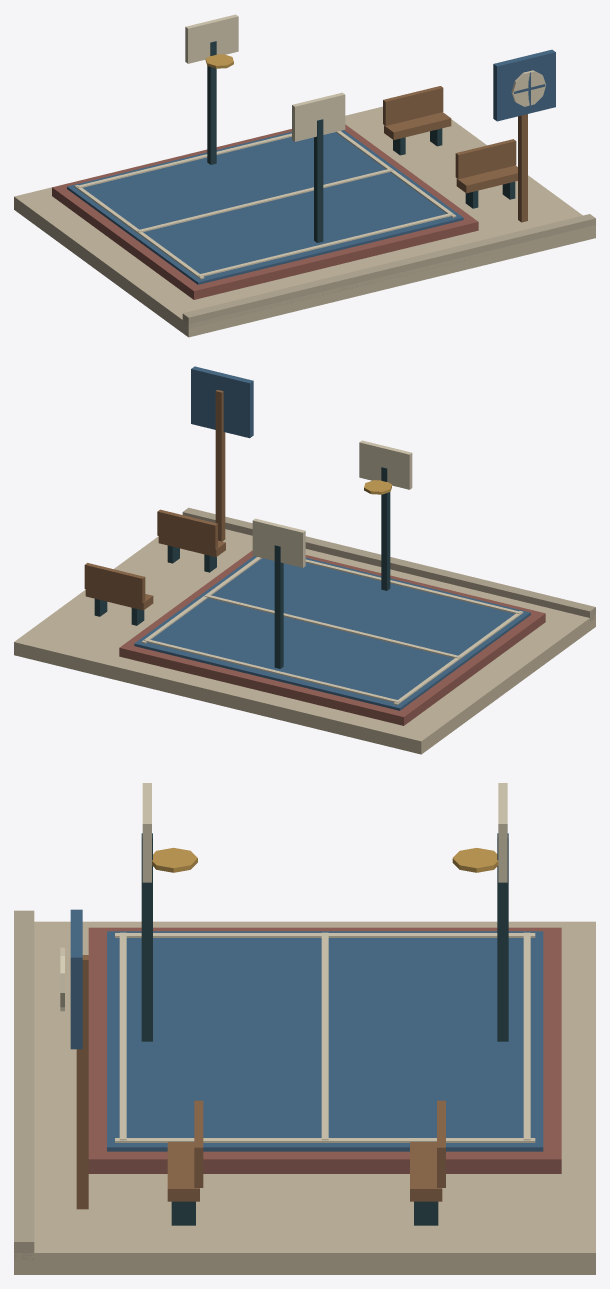
File: sports-park-seabreeze-complete.glb
3 renders of one model, top to bottom at view 1: azimuth 30°, elevation 25°; view 2: azimuth 150°, elevation 25°; view 3: azimuth 270°, elevation 25°, orthographic. The views are drawn at different scales.
Parts seen in each view (by area): view 1: sports-park; view 2: sports-park; view 3: sports-park.
Part boxes in pixels (x1,y1,x2,y2): sports-park: (14,14,595,337); sports-park: (14,366,595,754); sports-park: (14,783,595,1274).
Bounding box in the file's own units: 3.88 × 1.63 × 2.88.
